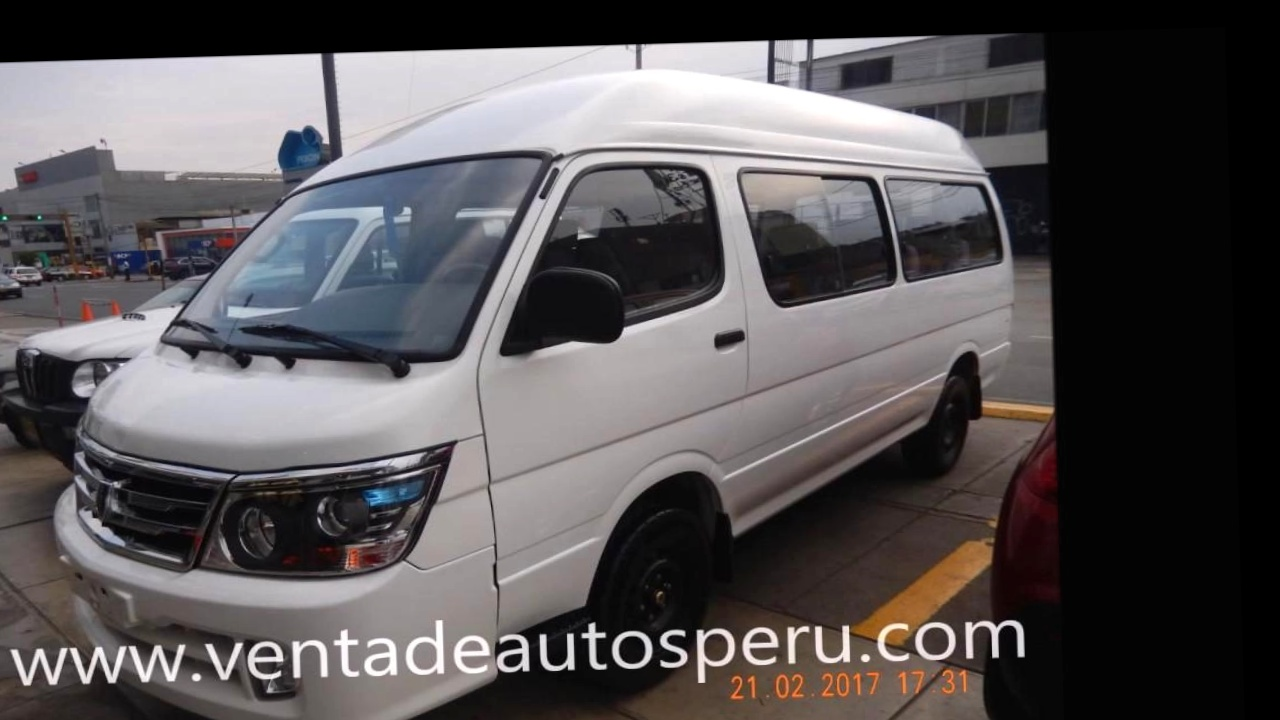van: (40, 57, 1035, 671)
